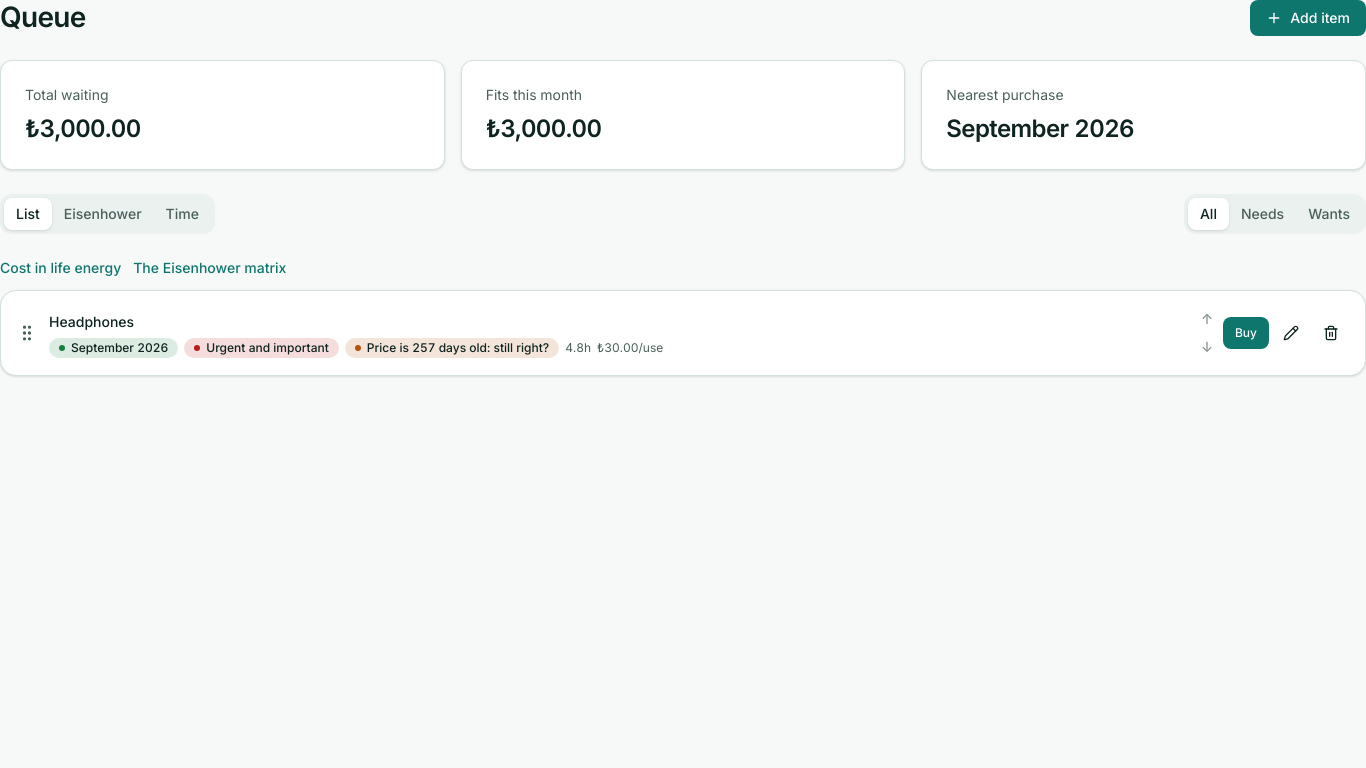
QueuePage purchase flow › postponing records a postponed decision and keeps the item in the queue
The width and height of the screenshot is (1366, 768).
Click the button "Headphones" at (92, 322), box top-left (37, 310), bottom-right (146, 334)
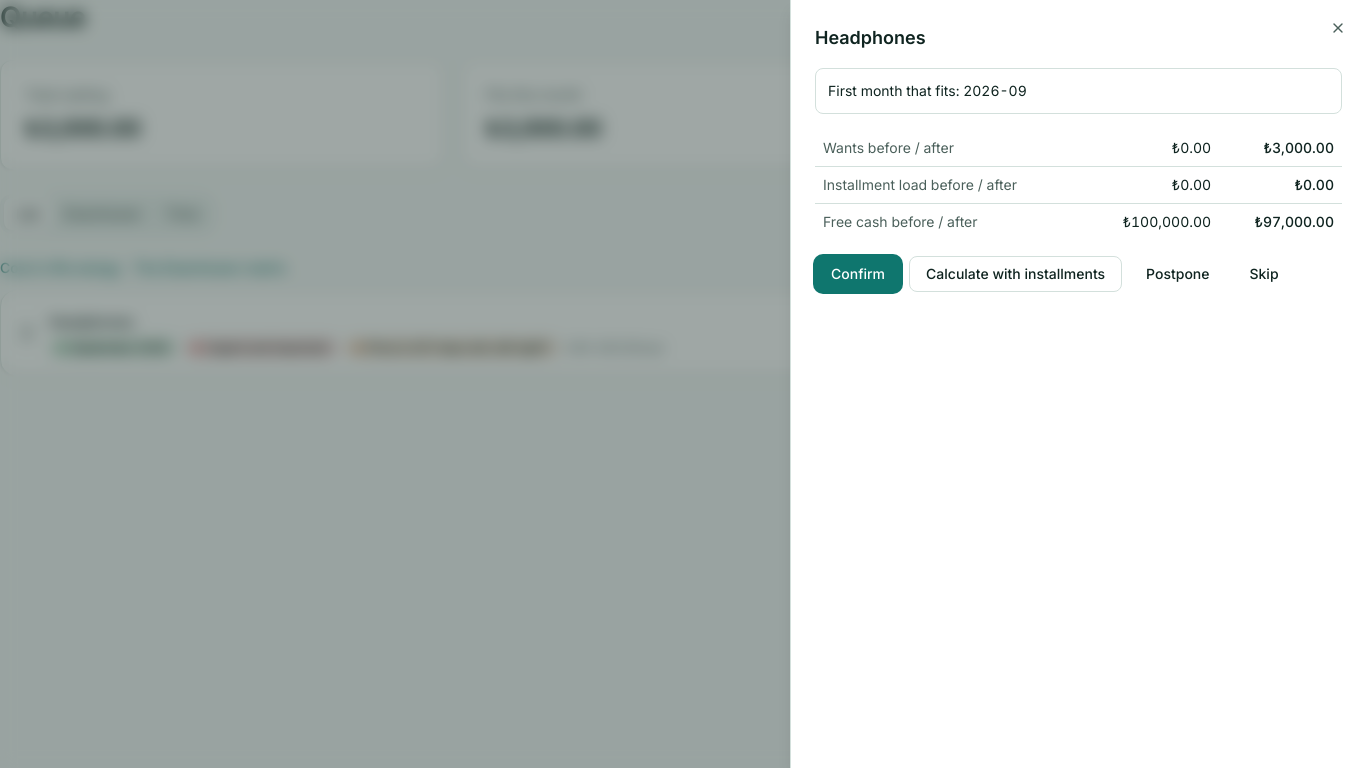
Click the button "Postpone" at (1178, 274), box top-left (1130, 256), bottom-right (1226, 292)
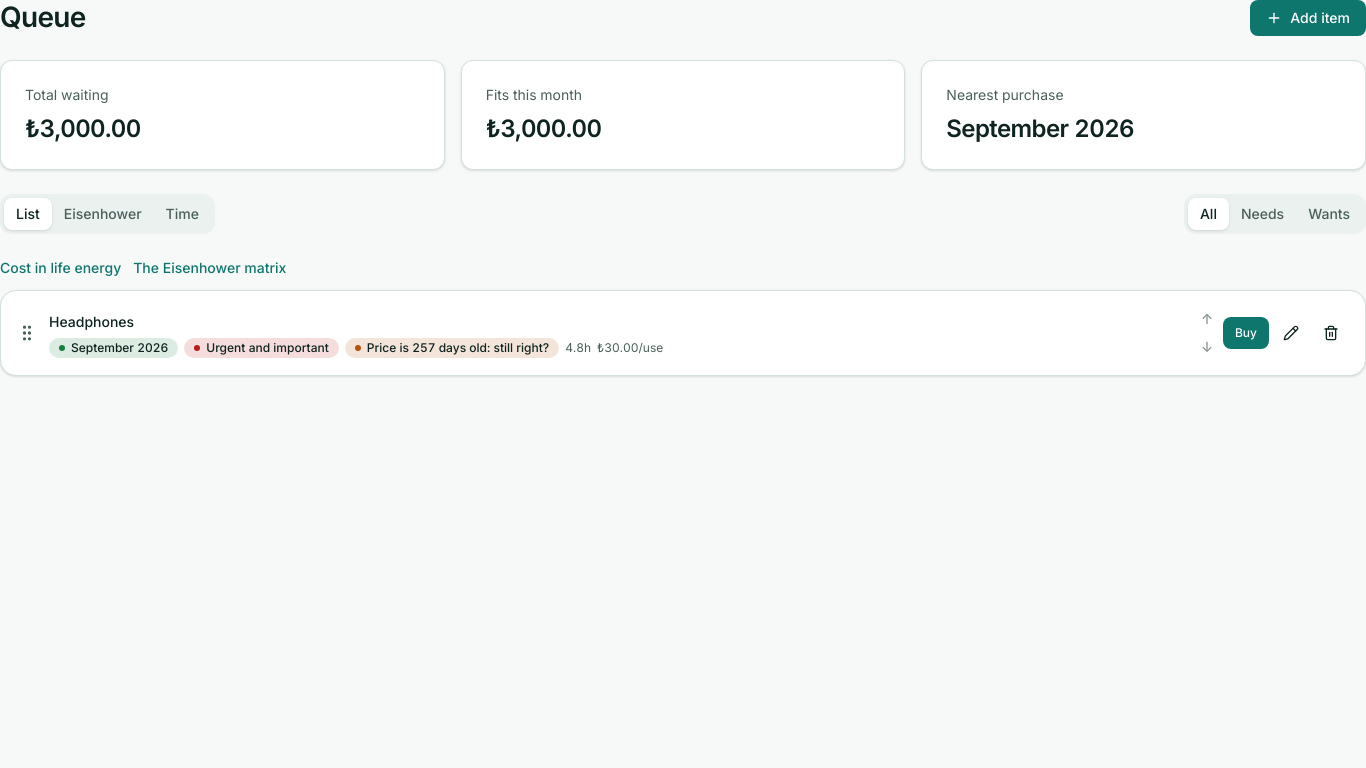
Check: the button "Postpone" is gone
